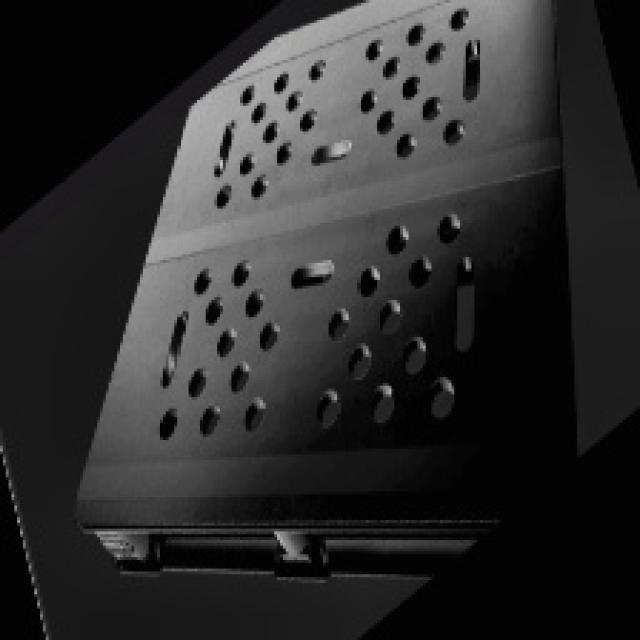igps: (66, 0, 588, 595)
